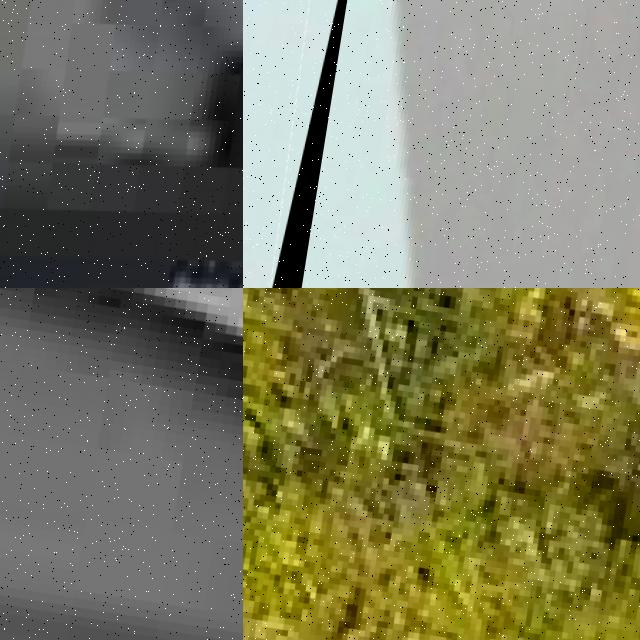0: (0, 0, 243, 288)
drone: (243, 0, 367, 288)
